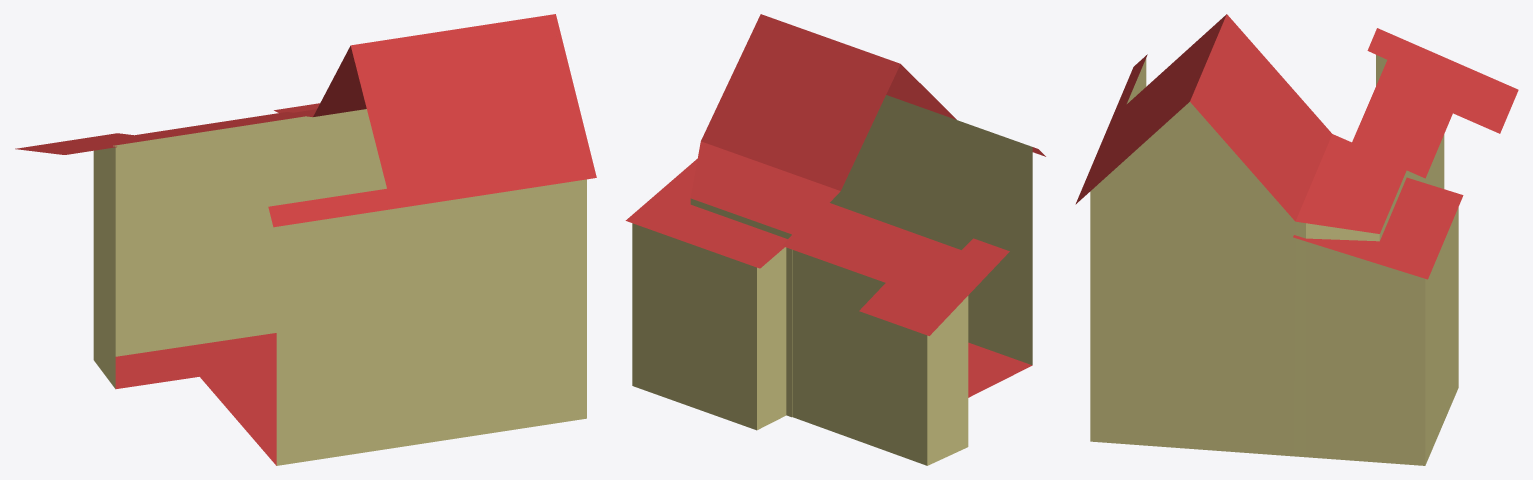
3 views of the same model, side by side, from view 1: azimuth 30°, elevation 25°; view 2: azimuth 150°, elevation 25°; view 3: azimuth 270°, elevation 25° (orthographic). The views are drawn at different scales.
Bounding box in the file's own units: 15.1 × 13.9 × 12.08.
